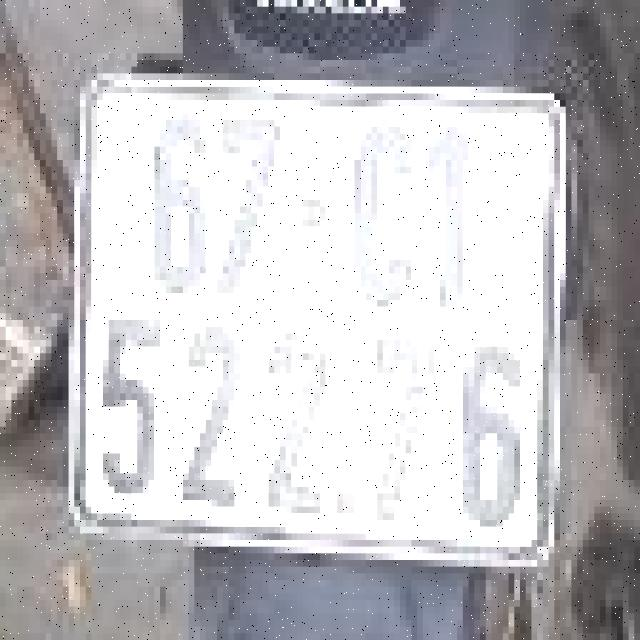1: (414, 123, 489, 317)
2: (252, 330, 332, 510), (180, 330, 249, 530)
5: (94, 314, 169, 514)
6: (454, 330, 534, 530), (148, 123, 206, 277)
7: (357, 330, 449, 537), (223, 106, 286, 286)
C: (334, 123, 420, 310)
